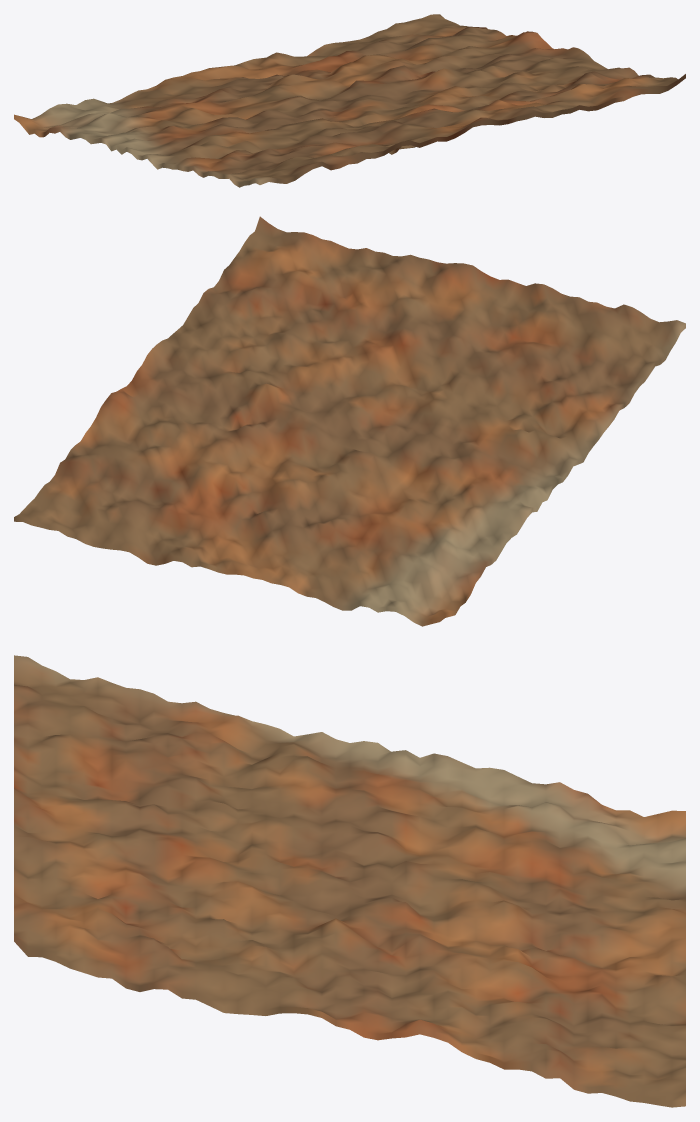
File: terrain-136.glb
3 renders of one model, top to bottom at view 1: azimuth 30°, elevation 25°; view 2: azimuth 150°, elevation 25°; view 3: azimuth 270°, elevation 25°, orthographic. The views are drawn at different scales.
Visible parts, largest first — view 1: terrain-136; view 2: terrain-136; view 3: terrain-136.
Boxes of the visible parts, x1,y1,x2,y2 form: terrain-136: [14, 14, 685, 187]; terrain-136: [14, 216, 685, 626]; terrain-136: [14, 655, 685, 1107].
Size of the model in its own units: 384 by 119 by 384.
